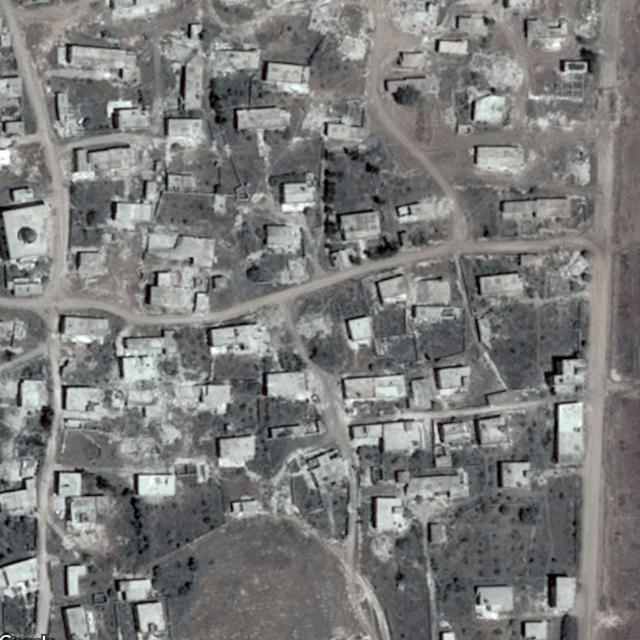damaged_building: (97, 354, 204, 463), (158, 23, 263, 73), (305, 0, 370, 62), (264, 222, 310, 282), (302, 102, 370, 141), (203, 321, 274, 356), (382, 0, 439, 41), (469, 50, 526, 90), (0, 434, 36, 481), (541, 249, 589, 284), (161, 112, 206, 149), (401, 494, 456, 524), (395, 200, 458, 222), (295, 311, 337, 342), (566, 142, 593, 186), (368, 531, 400, 564)
